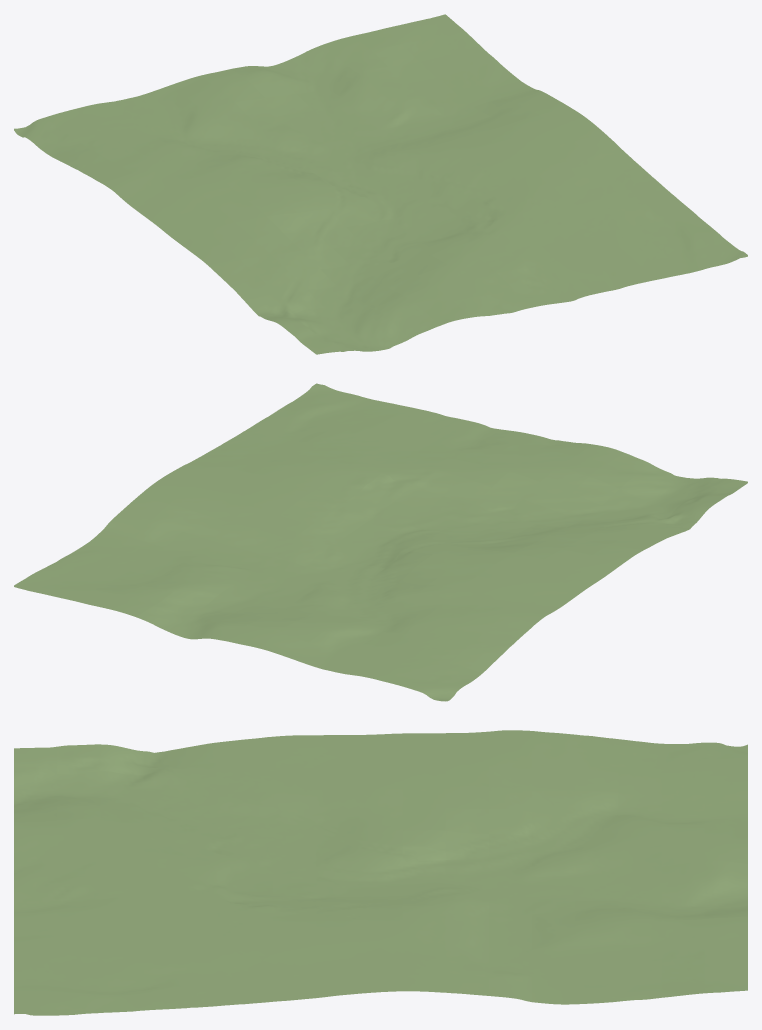
Rendered from terrain_lod3.glb.
3 renders of one model, top to bottom at view 1: azimuth 30°, elevation 25°; view 2: azimuth 150°, elevation 25°; view 3: azimuth 270°, elevation 25°, orthographic. The views are drawn at different scales.
Parts seen in each view (by area): view 1: t_2_0, t_9_16, t_3_0, t_9_13, t_5_13, t_9_12, t_0_3, t_8_0, t_5_7, t_6_0, t_10_12, t_8_9 (+151 smaller); view 2: t_6_4, t_10_10, t_7_4, t_3_2, t_11_10, t_12_11, t_5_3, t_0_14, t_9_10, t_5_4, t_13_11, t_0_16 (+98 smaller); view 3: t_5_9, t_0_1, t_5_10, t_6_8, t_0_2, t_3_13, t_1_0, t_0_0, t_4_11, t_3_6, t_3_7, t_4_10 (+223 smaller).
Boxes of the visible parts, <box> form: t_2_0: <box>360,320,408,350</box>; t_9_16: <box>292,45,339,74</box>; t_3_0: <box>391,310,439,339</box>; t_9_13: <box>345,88,392,115</box>; t_5_13: <box>221,120,269,144</box>; t_9_12: <box>363,104,410,130</box>; t_0_3: <box>245,293,293,317</box>; t_8_0: <box>545,277,593,302</box>; t_5_7: <box>328,203,376,227</box>; t_6_0: <box>484,290,532,314</box>; t_10_12: <box>393,98,441,122</box>; t_8_9: <box>385,151,433,176</box>; t_6_4: <box>443,477,491,504</box>; t_10_10: <box>213,522,261,549</box>; t_7_4: <box>412,468,460,495</box>; t_3_2: <box>571,476,619,505</box>; t_11_10: <box>182,513,230,540</box>; t_12_11: <box>134,520,181,547</box>; t_5_3: <box>492,471,539,498</box>; t_0_14: <box>450,646,498,674</box>; t_9_10: <box>244,531,292,557</box>; t_5_4: <box>474,488,522,515</box>; t_13_11: <box>103,512,151,538</box>; t_0_16: <box>414,676,463,701</box>; t_5_9: <box>402,830,445,860</box>; t_0_1: <box>57,744,100,774</box>; t_5_10: <box>445,830,488,859</box>; t_6_8: <box>359,854,402,882</box>; t_0_2: <box>100,744,143,774</box>; t_3_13: <box>575,790,618,817</box>; t_1_0: <box>14,771,57,798</box>; t_0_0: <box>14,746,57,773</box>; t_4_11: <box>489,809,531,836</box>; t_3_6: <box>273,796,316,825</box>; t_3_7: <box>316,791,359,820</box>; t_4_10: <box>445,808,488,834</box>.
Bounding box in the file's own units: 3584 × 232 × 4352.
